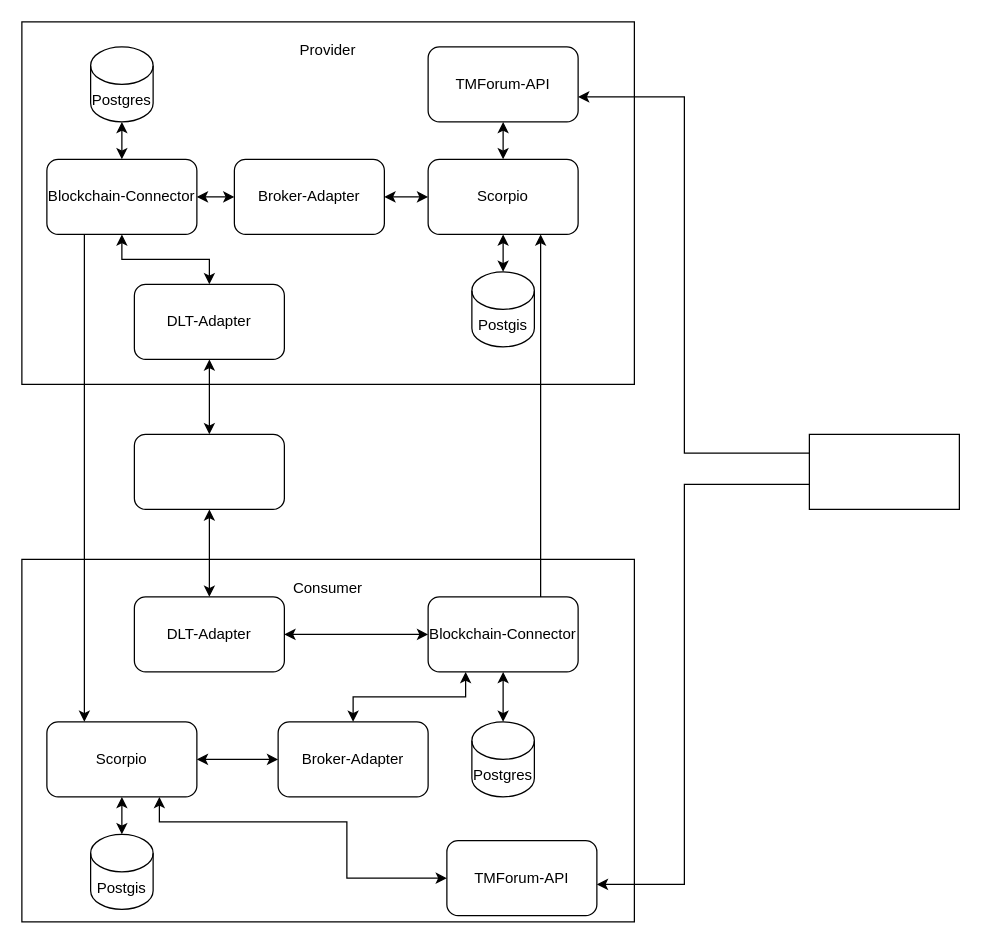
Some shapes in this 981 by 944 pixel diagram are drawn without their labels. The centre of each missing label's shape, as x and y in pixels:
"(local) Blockchain-Testnode" belongs at [208,471].
"Test Runner" belongs at [883,471].
